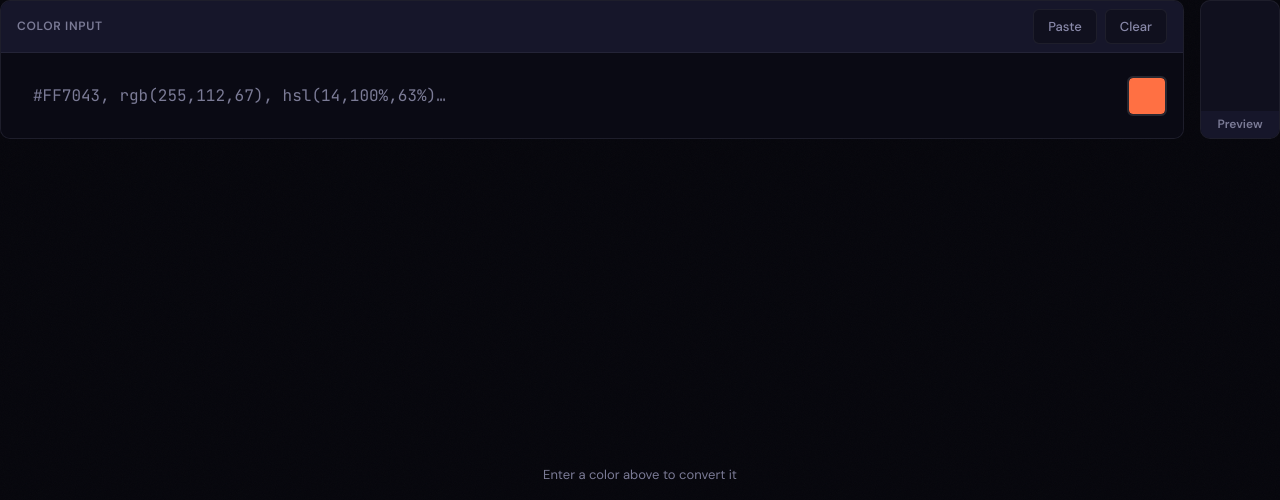
ColorConverter › shows unrecognised format message for invalid input
Type "not-a-color" into the field named "color value input" at (564, 96), box [17, 69, 1111, 122]
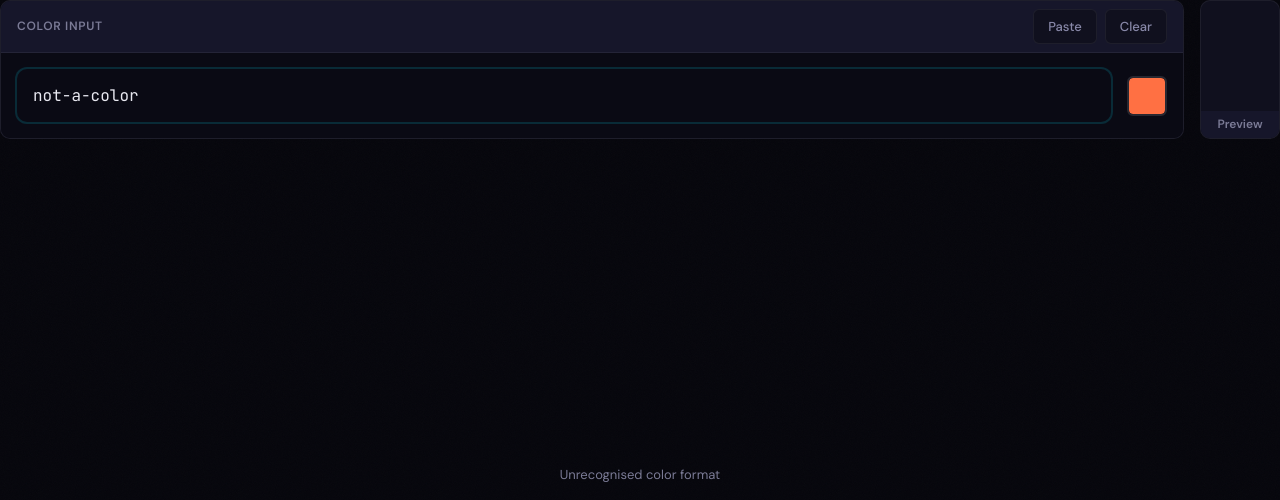
Expected: the text "Unrecognised color format" is shown, [560, 466, 720, 483]
